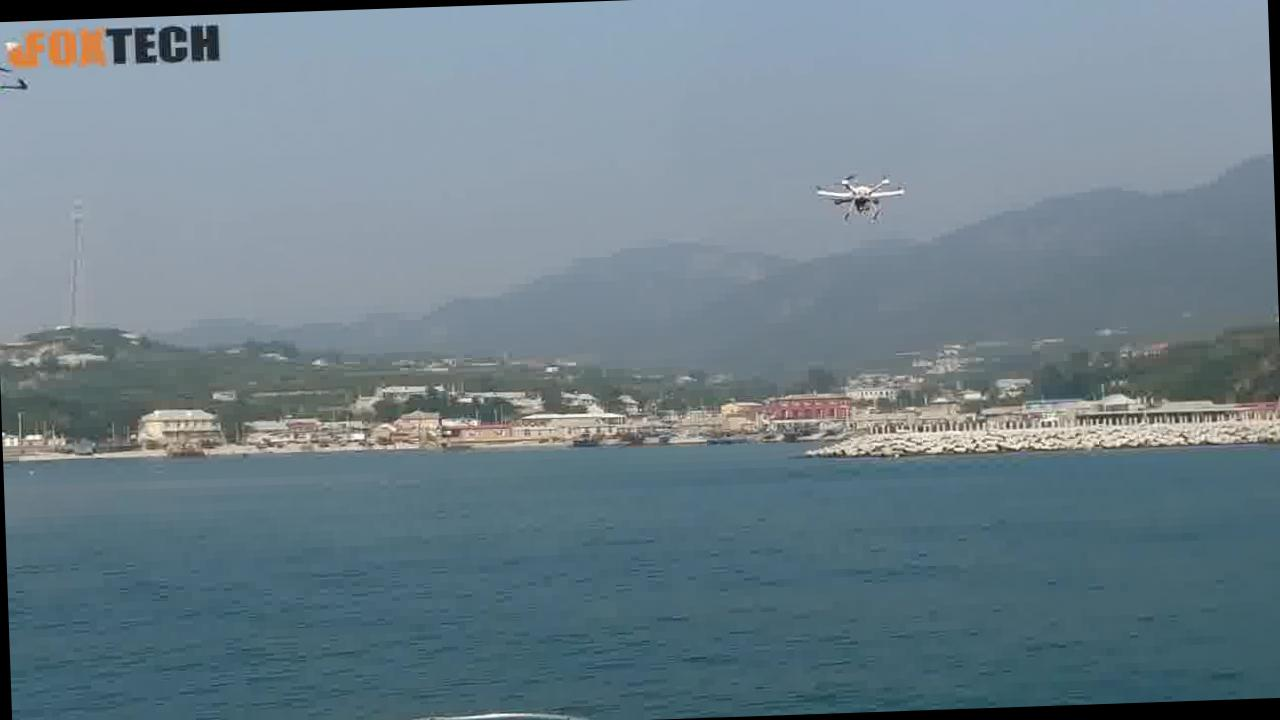drone: (816, 159, 924, 229)
